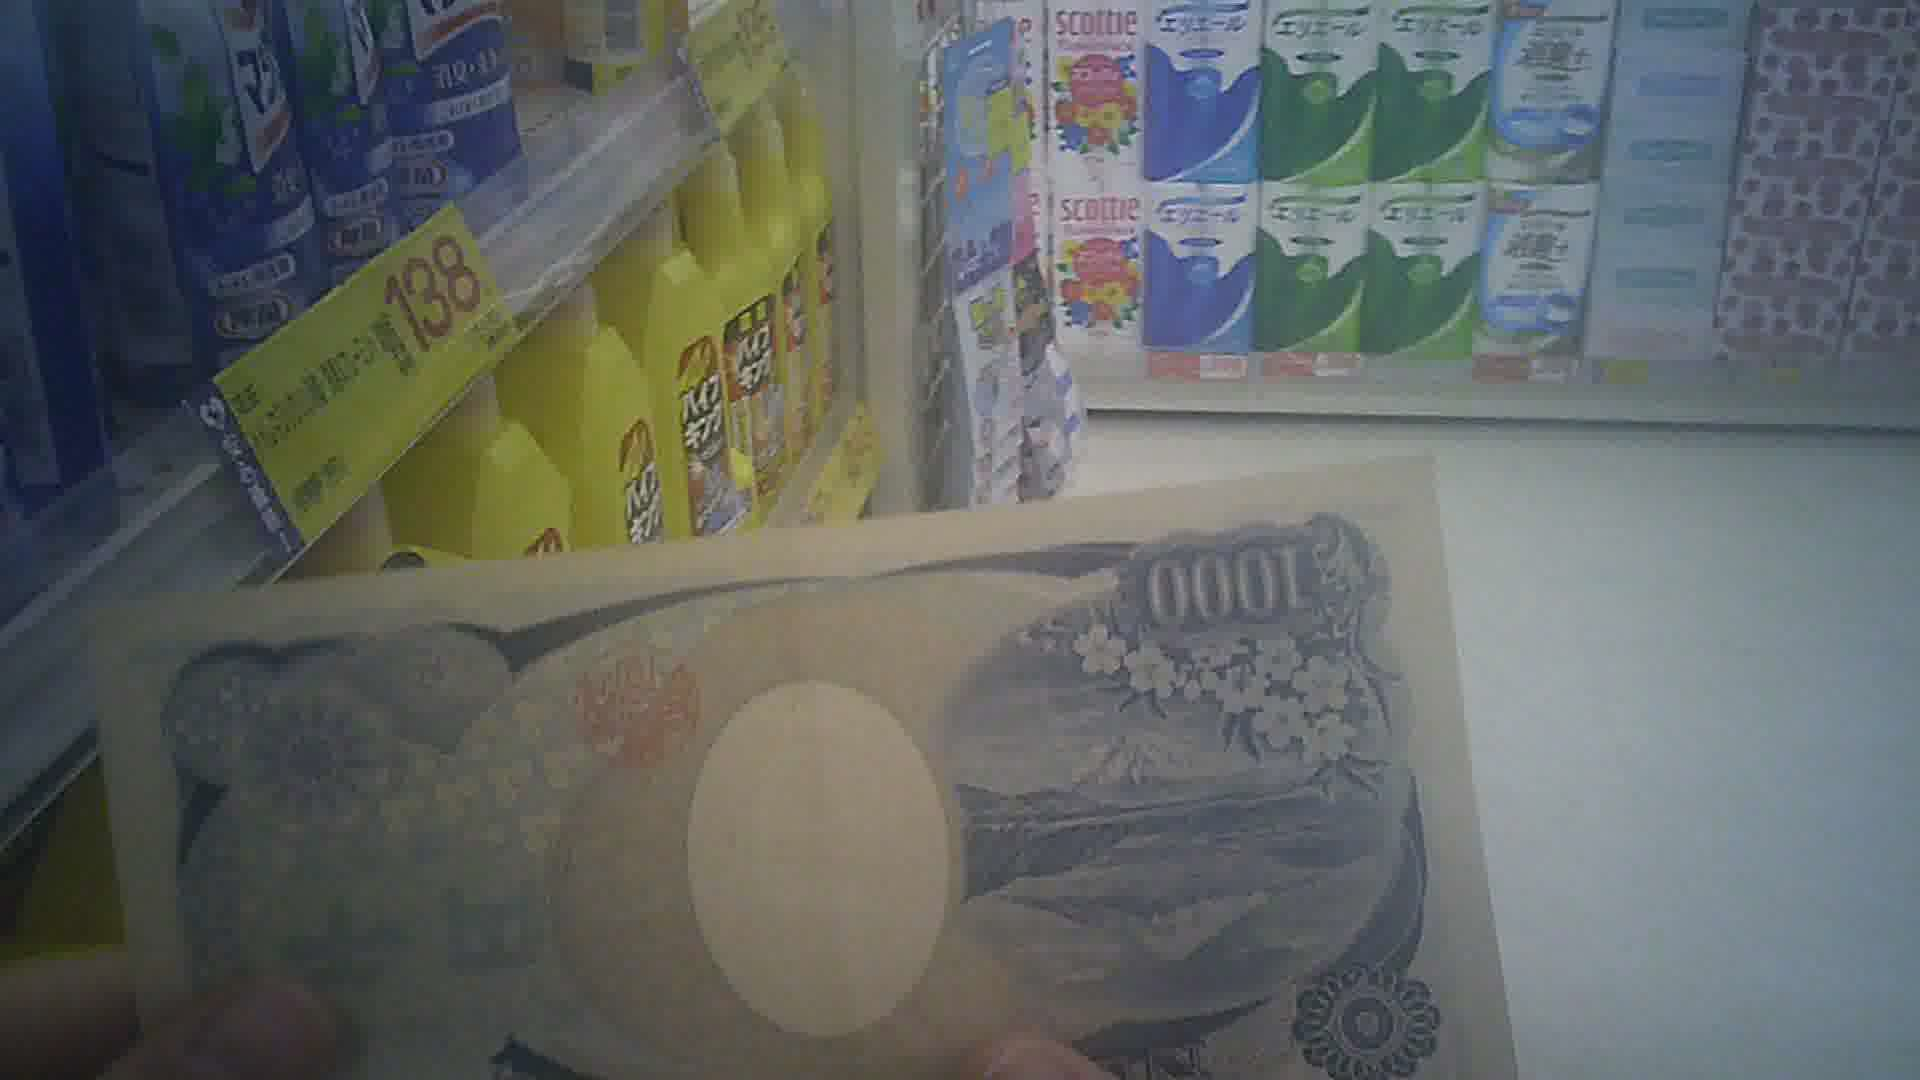1,000 Yen: (80, 469, 1544, 1079)
